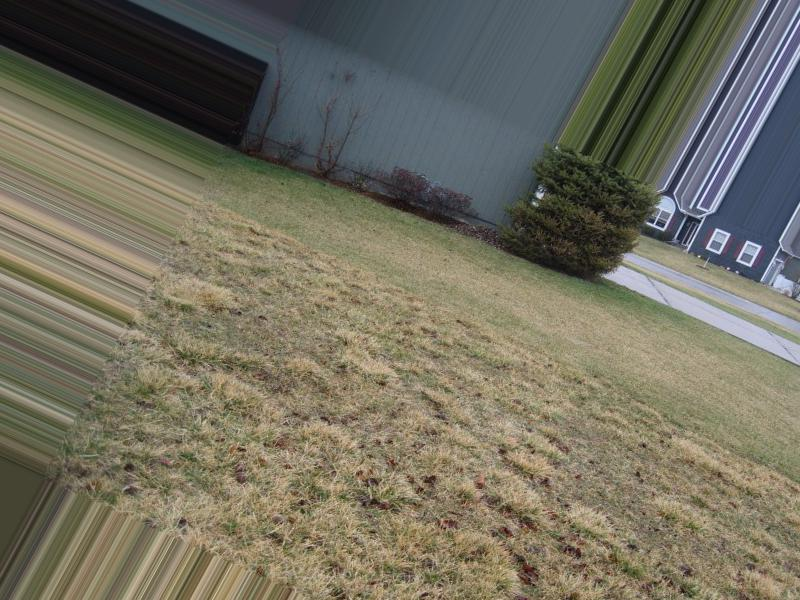patch: (315, 342, 691, 571), (78, 209, 301, 485), (463, 271, 641, 337)
